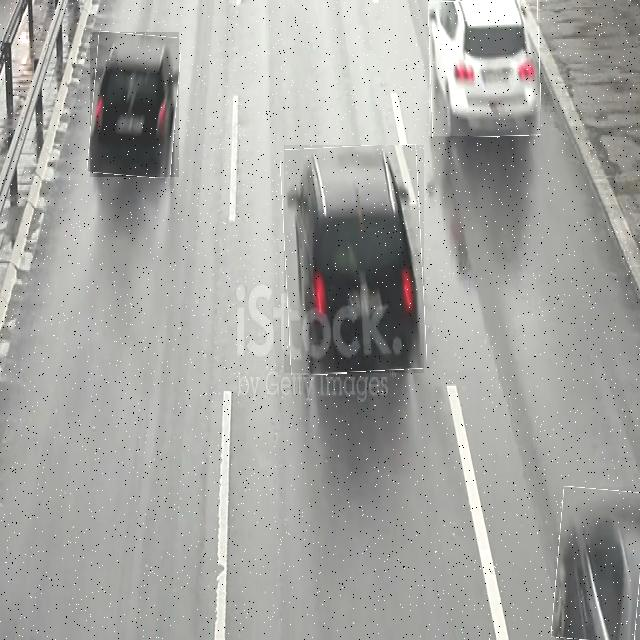Car: (284, 146, 424, 374), (429, 0, 540, 136), (554, 487, 640, 640), (90, 32, 179, 177)
